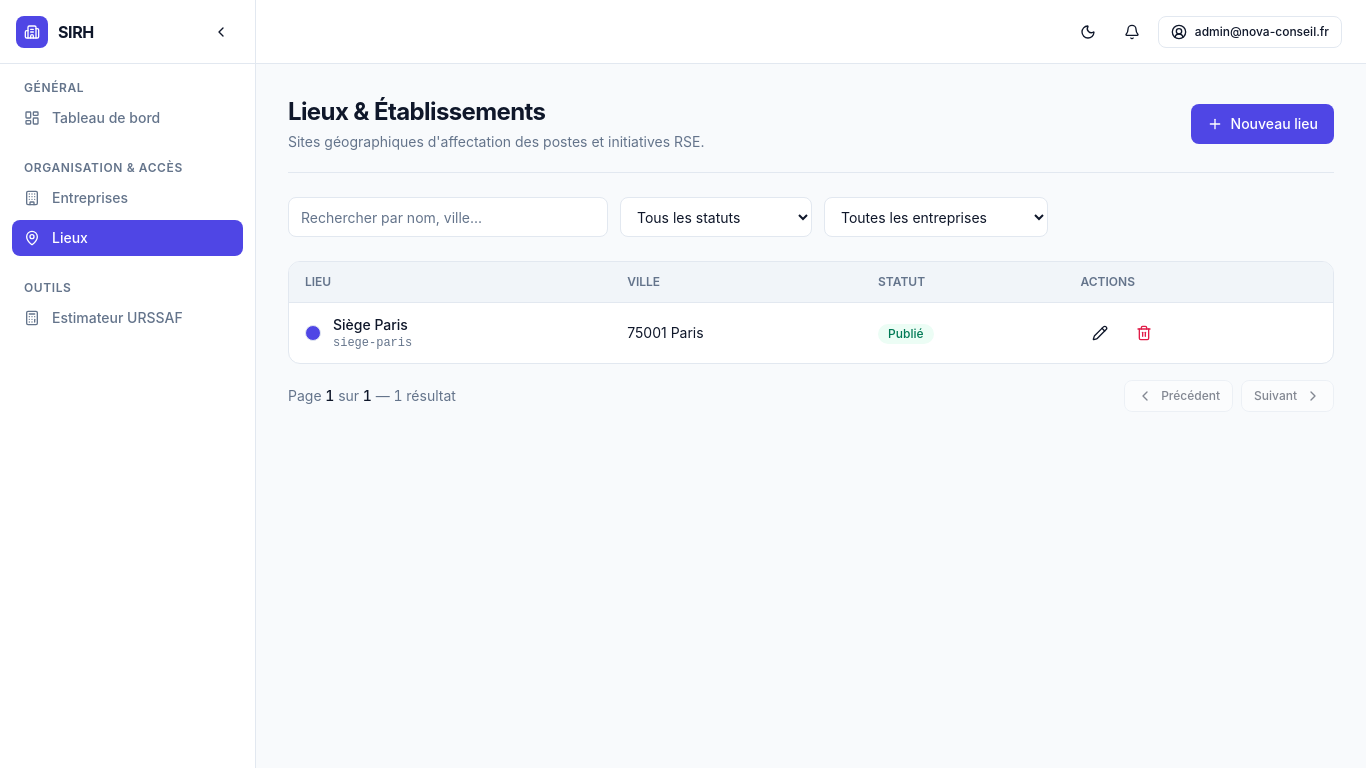
Test: Organization Flows (Companies, Locations, ContractTypes, Departments) › displays 409 error when deleting a referenced Location
The width and height of the screenshot is (1366, 768).
Expected: the text "Siège Paris" is shown, [333,315,412,335]
Step 1. Click the button named "Supprimer Siège Paris" → click(1144, 333), box [1124,317,1164,349]
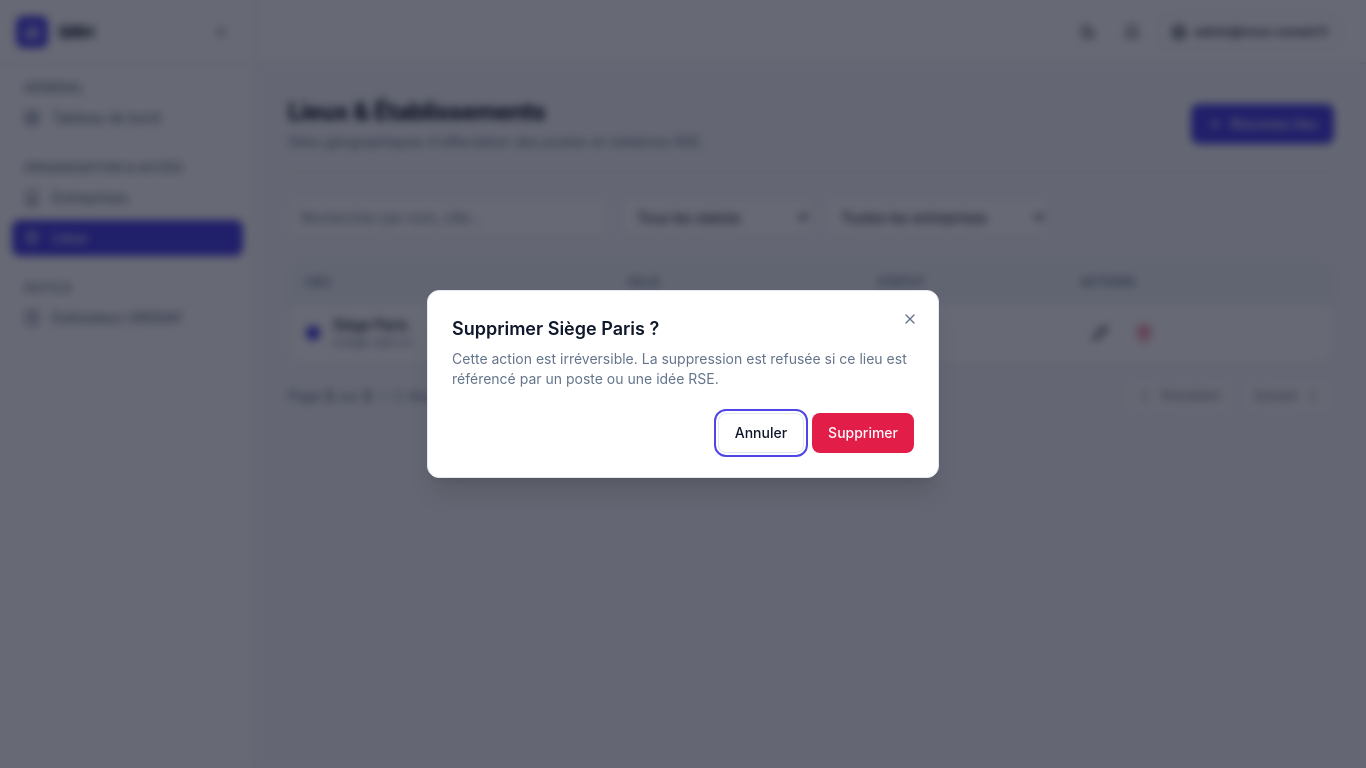
Step 2. Click the button "Supprimer" → click(863, 433), box [812,413,914,453]
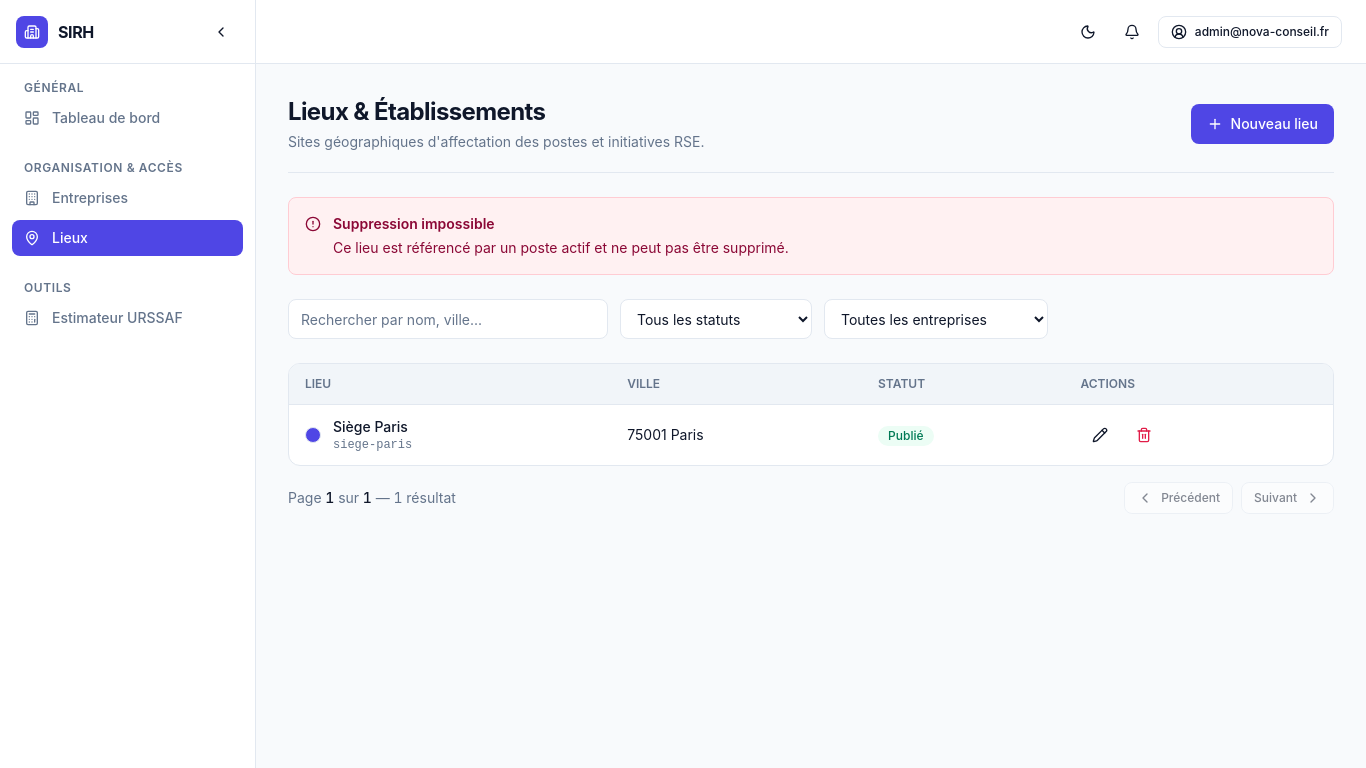
Expected: the text "référencé par un poste actif" is shown, [333,239,789,256]
